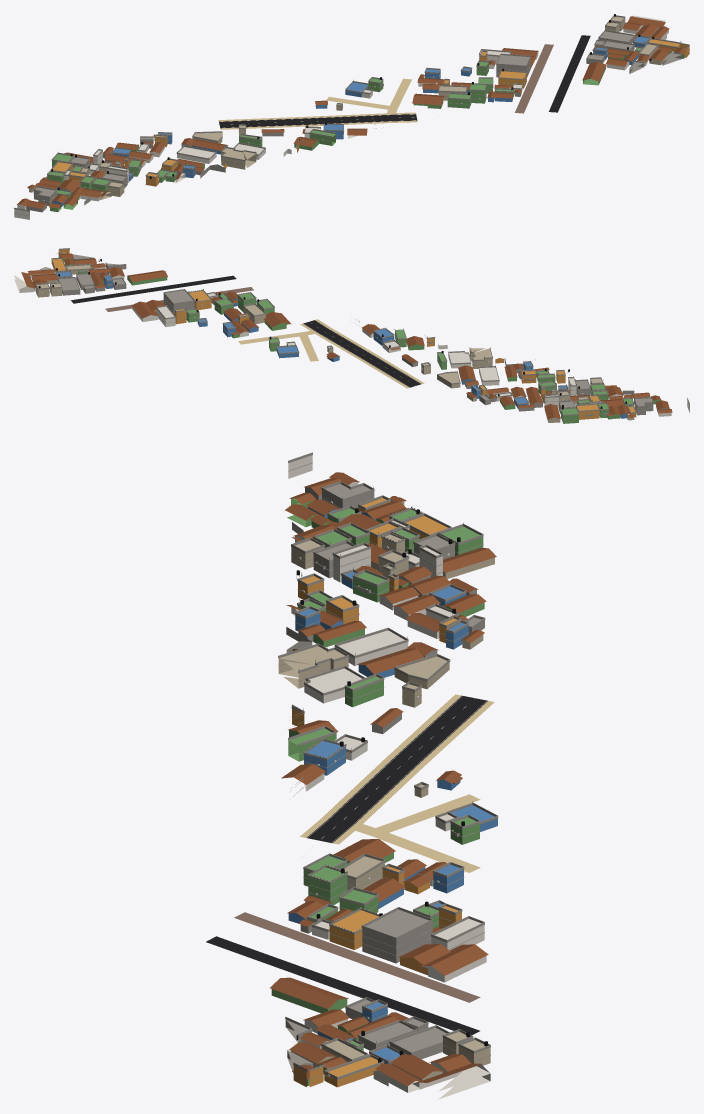
Rendered from zone_t6_3.glb.
3 views of the same model, one above another, from view 1: azimuth 30°, elevation 25°; view 2: azimuth 150°, elevation 25°; view 3: azimuth 270°, elevation 25° (orthographic). The views are drawn at different scales.
Parts seen in each view (by area): view 1: toit_tole_t6_3, parapet_t6_3, bld_peinture_vert_t6_3-col, bld_beton_t6_3-col, bld_peinture_blanc_t6_3-col, bld_peinture_ecaillee_t6_3-col, bld_peinture_bleu_t6_3-col, bld_peinture_ocre_t6_3-col, route_secondary_bitume_t6_3, accotement_t6_3, route_residential_bitume_t6_3, route_residential_paves_t6_3 (+2 smaller); view 2: toit_tole_t6_3, parapet_t6_3, bld_peinture_vert_t6_3-col, bld_beton_t6_3-col, bld_peinture_blanc_t6_3-col, bld_peinture_ecaillee_t6_3-col, bld_peinture_ocre_t6_3-col, bld_peinture_bleu_t6_3-col, route_secondary_bitume_t6_3, route_residential_bitume_t6_3, accotement_t6_3, bandeau_t6_3 (+1 smaller); view 3: toit_tole_t6_3, parapet_t6_3, bld_peinture_blanc_t6_3-col, bld_peinture_vert_t6_3-col, bld_beton_t6_3-col, bld_peinture_ecaillee_t6_3-col, bld_peinture_ocre_t6_3-col, bld_peinture_bleu_t6_3-col, route_secondary_bitume_t6_3, route_residential_bitume_t6_3, route_residential_paves_t6_3, accotement_t6_3 (+3 smaller).
Part boxes in pixels (left/top/right/bottom): toit_tole_t6_3: left=17, top=16, right=685, bottom=208; parapet_t6_3: left=14, top=15, right=689, bottom=211; bld_peinture_vert_t6_3-col: left=47, top=48, right=685, bottom=212; bld_beton_t6_3-col: left=26, top=31, right=682, bottom=212; bld_peinture_blanc_t6_3-col: left=14, top=15, right=668, bottom=219; bld_peinture_ecaillee_t6_3-col: left=29, top=16, right=668, bottom=200; bld_peinture_bleu_t6_3-col: left=52, top=37, right=649, bottom=206; bld_peinture_ocre_t6_3-col: left=33, top=39, right=689, bottom=196; route_secondary_bitume_t6_3: left=219, top=114, right=417, bottom=128; accotement_t6_3: left=218, top=112, right=417, bottom=129; route_residential_bitume_t6_3: left=549, top=35, right=590, bottom=112; route_residential_paves_t6_3: left=515, top=44, right=553, bottom=113; toit_tole_t6_3: left=21, top=253, right=672, bottom=419; parapet_t6_3: left=36, top=248, right=689, bottom=415; bld_peinture_vert_t6_3-col: left=60, top=256, right=660, bottom=423; bld_beton_t6_3-col: left=58, top=254, right=668, bottom=415; bld_peinture_blanc_t6_3-col: left=14, top=265, right=689, bottom=416; bld_peinture_ecaillee_t6_3-col: left=32, top=261, right=634, bottom=422; bld_peinture_ocre_t6_3-col: left=51, top=249, right=636, bottom=419; bld_peinture_bleu_t6_3-col: left=56, top=270, right=634, bottom=418; route_secondary_bitume_t6_3: left=303, top=320, right=421, bottom=387; route_residential_bitume_t6_3: left=71, top=275, right=236, bottom=303; accotement_t6_3: left=300, top=319, right=424, bottom=388; bandeau_t6_3: left=36, top=253, right=689, bottom=419; toit_tole_t6_3: left=270, top=472, right=496, bottom=1086; parapet_t6_3: left=278, top=452, right=498, bottom=1079; bld_peinture_blanc_t6_3-col: left=288, top=455, right=490, bottom=1099; bld_peinture_vert_t6_3-col: left=271, top=498, right=484, bottom=1086; bld_beton_t6_3-col: left=285, top=484, right=484, bottom=1073; bld_peinture_ecaillee_t6_3-col: left=278, top=500, right=494, bottom=1080; bld_peinture_ocre_t6_3-col: left=292, top=498, right=461, bottom=1087; bld_peinture_bleu_t6_3-col: left=288, top=507, right=497, bottom=1064; route_secondary_bitume_t6_3: left=307, top=695, right=487, bottom=843; route_residential_bitume_t6_3: left=206, top=936, right=479, bottom=1034; route_residential_paves_t6_3: left=234, top=912, right=480, bottom=1002; accotement_t6_3: left=300, top=694, right=494, bottom=844.
Bounding box in the file's own units: 514 × 11 × 101.
